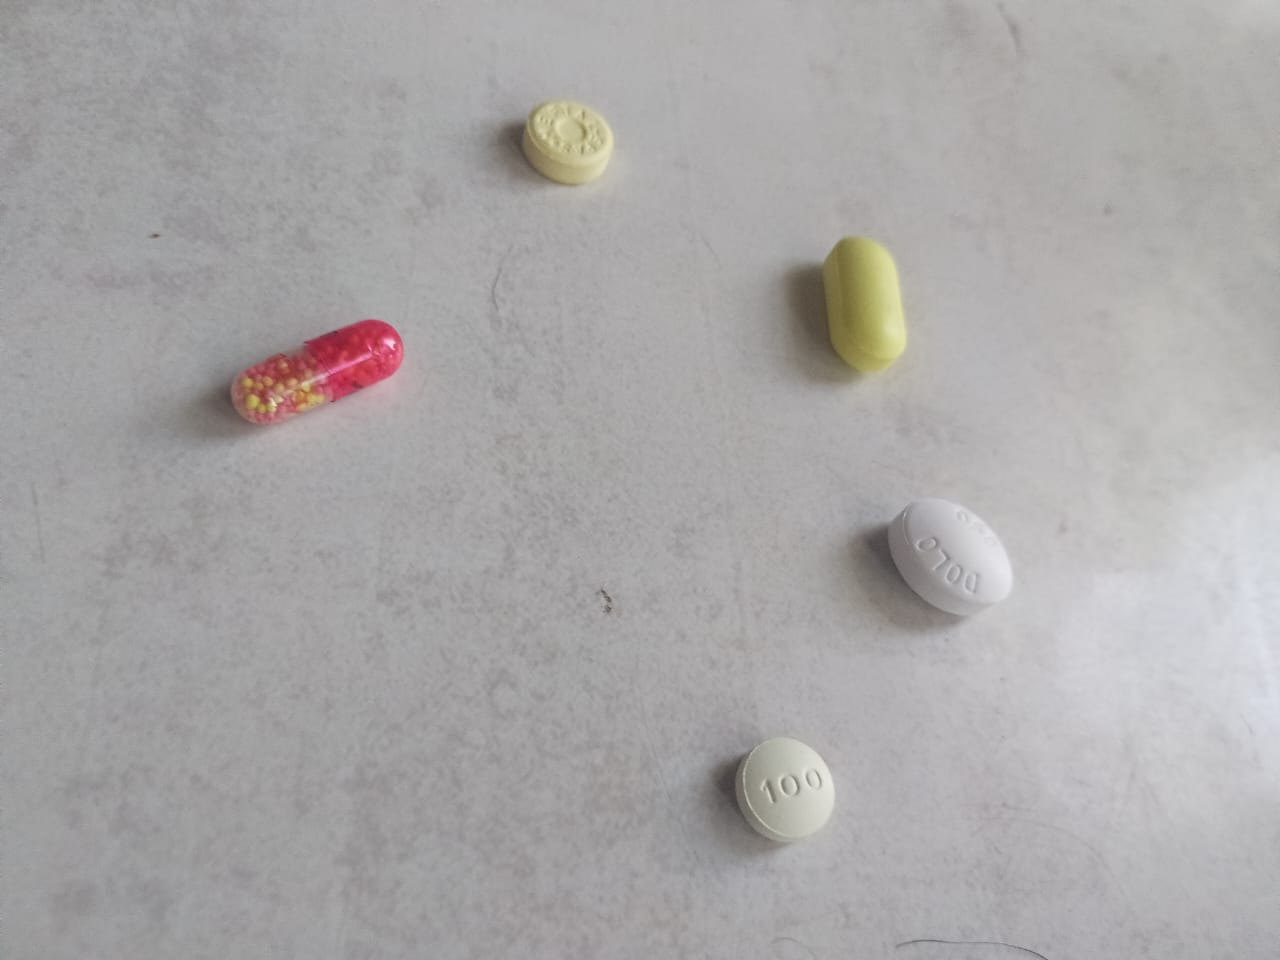Coldact: (189, 317, 425, 425)
Dolo 650: (883, 466, 1021, 642)
Meftal SPAS: (504, 92, 640, 205)
Nise: (740, 743, 837, 852)
Norflox TZ: (816, 230, 907, 384)
